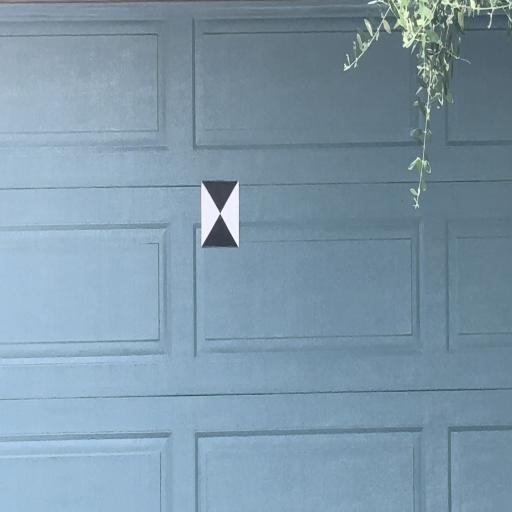target: (202, 182, 239, 247)
